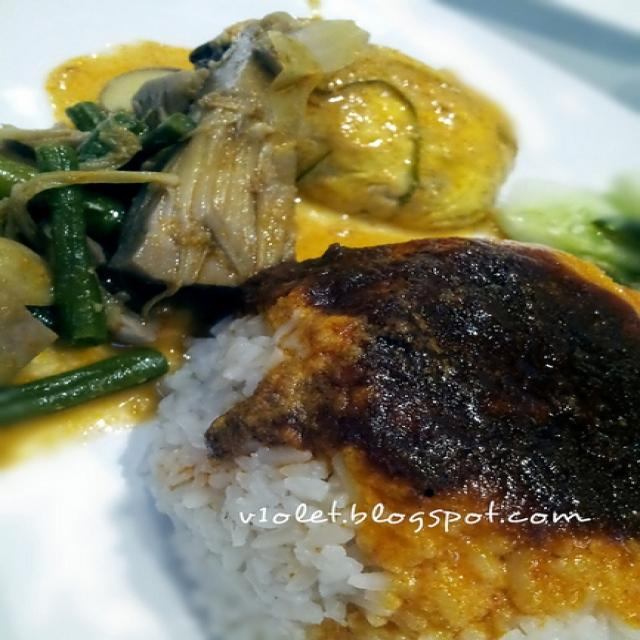米饭主食: (12, 13, 621, 626)
